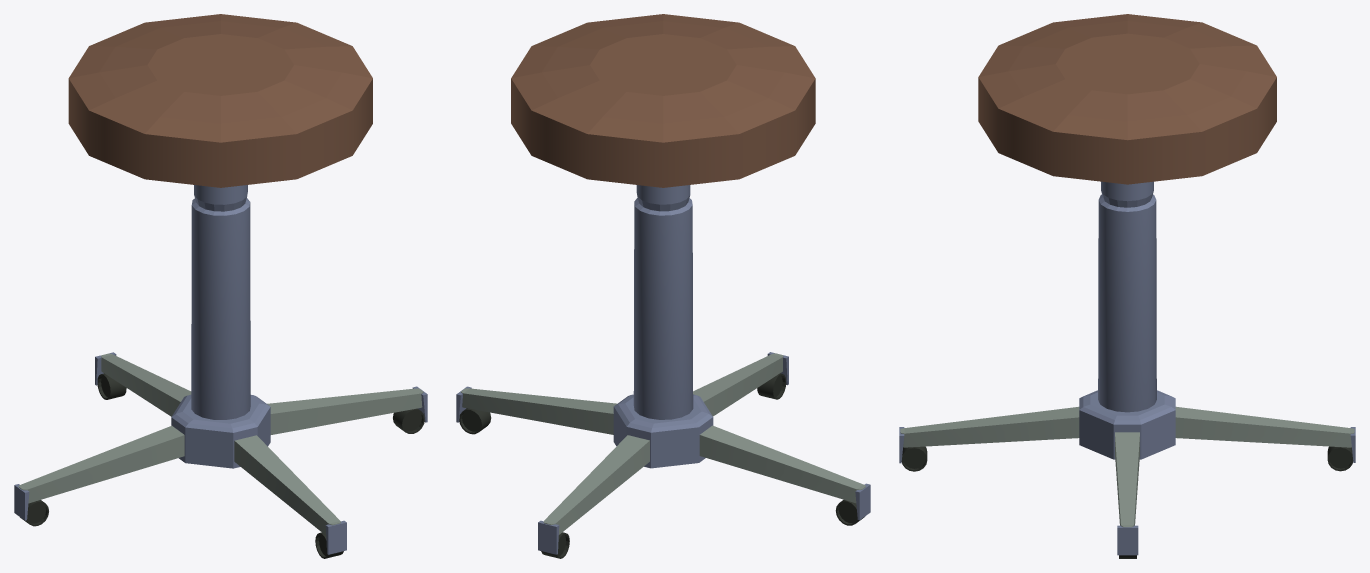
Rendered from SM_rolling_roundchair.fbx.
The picture shows the model from 3 angles, left to right: view 1: azimuth 30°, elevation 25°; view 2: azimuth 150°, elevation 25°; view 3: azimuth 270°, elevation 25°; orthographic projection.
Parts seen in each view (by area): view 1: rolling_roundchair; view 2: rolling_roundchair; view 3: rolling_roundchair.
Boxes of the visible parts, x1=… form: rolling_roundchair: x1=14, y1=14, x2=427, y2=558; rolling_roundchair: x1=456, y1=14, x2=870, y2=558; rolling_roundchair: x1=899, y1=14, x2=1355, y2=558.
Size of the model in its own units: 72.94 by 71.17 by 72.94.
